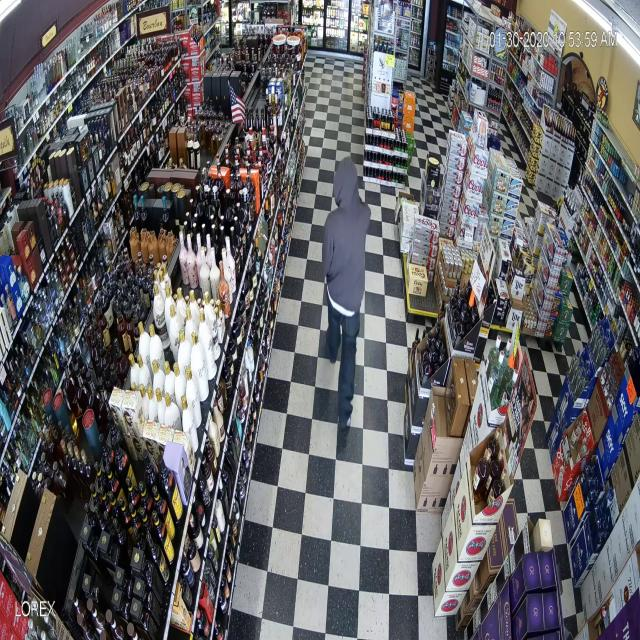normal: (287, 138, 406, 446)
